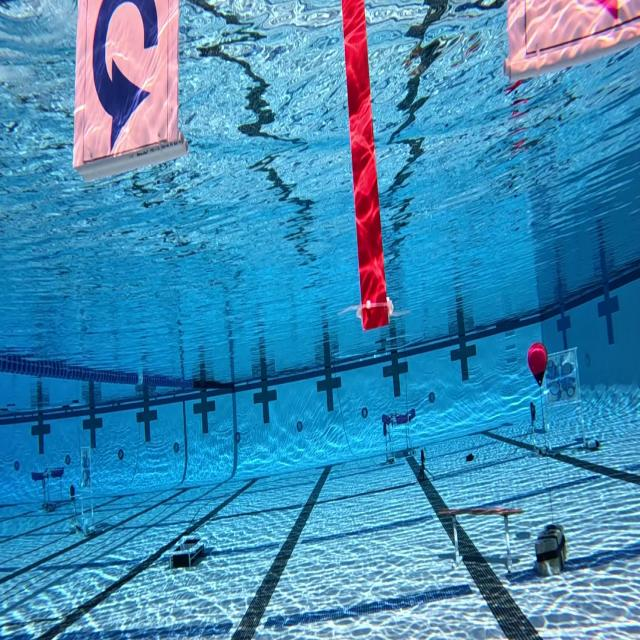blue_side: (76, 0, 182, 155)
